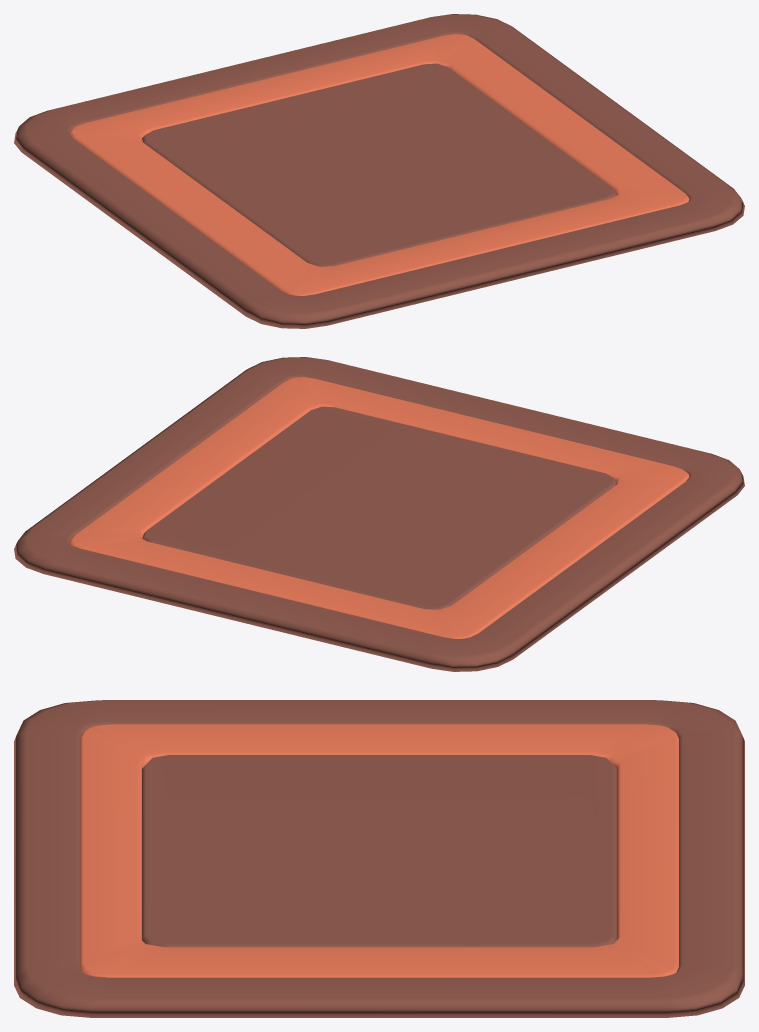
The model's file is Carpet_03.glb.
The picture shows the model from 3 angles, top to bottom: view 1: azimuth 30°, elevation 25°; view 2: azimuth 150°, elevation 25°; view 3: azimuth 270°, elevation 25°; orthographic projection. The views are drawn at different scales.
Parts seen in each view (by area): view 1: Carpet_03; view 2: Carpet_03; view 3: Carpet_03.
Boxes of the visible parts, left/top/right/bottom form: Carpet_03: left=14, top=14, right=744, bottom=328; Carpet_03: left=14, top=357, right=744, bottom=671; Carpet_03: left=14, top=700, right=744, bottom=1017.
Size of the model in its own units: 1.1 by 0.0232 by 1.1.
Materials: 1 (1 with a texture image).
